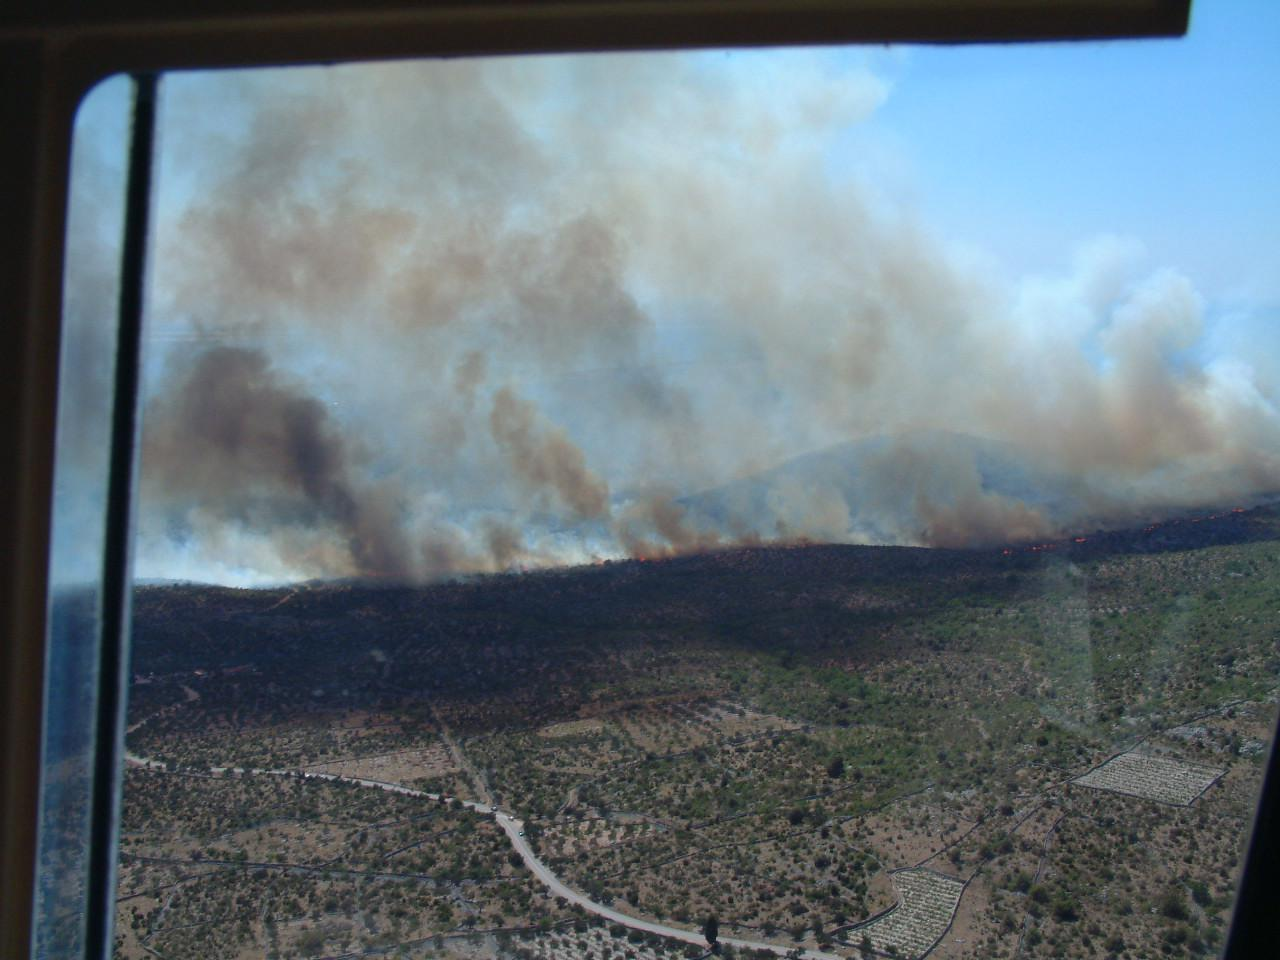Smoke: (181, 77, 1280, 545)
